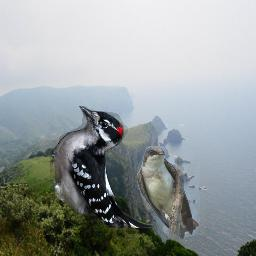Swallow: (137, 146, 200, 240)
Woodpecker: (50, 106, 153, 228)
